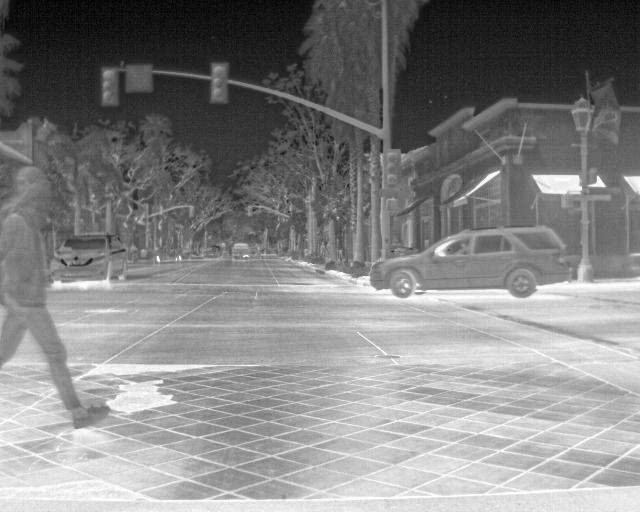bicycle: (370, 224, 572, 300), (49, 230, 131, 283), (200, 240, 227, 259), (228, 239, 249, 261)
empty: (0, 166, 110, 430)
